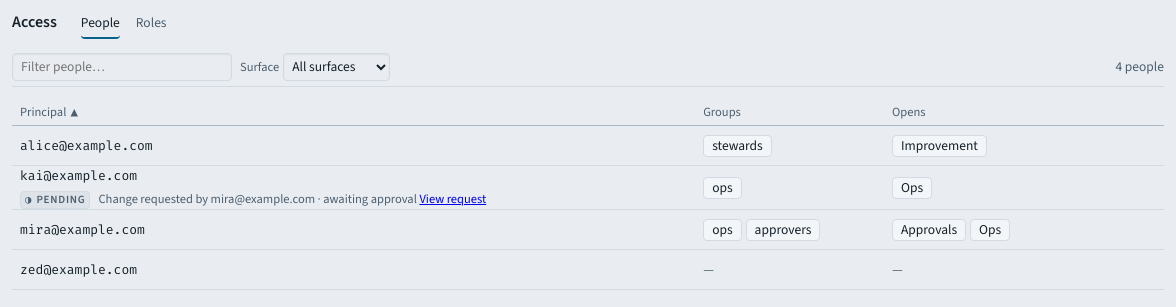
Test: §15 People — the table standard › the surface filter narrows the RENDERED ROWS, and the count follows them
Expected: the text "4 people" is shown, 1116,56 -> 1164,76
Select "Ops" in the dropdown labelled "Surface". click: (337, 66)
box: 283,52 -> 390,80
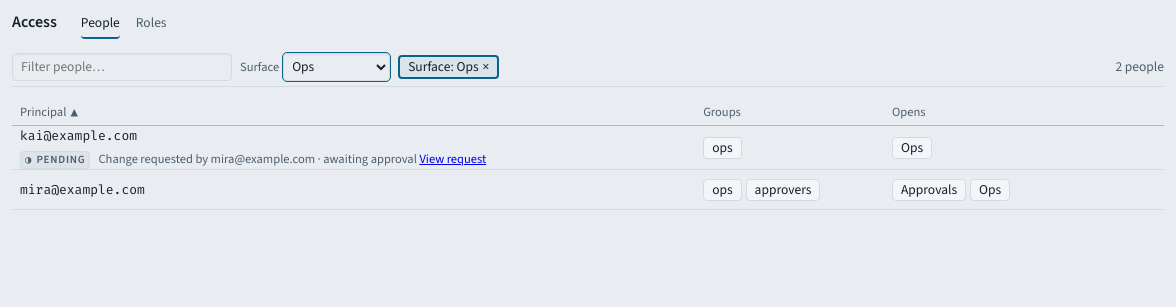
Expected: the text "2 people" is shown, 1116,56 -> 1164,76
Click the button named "Clear Surface: Ops". click: (486, 66)
box: 483,56 -> 489,76
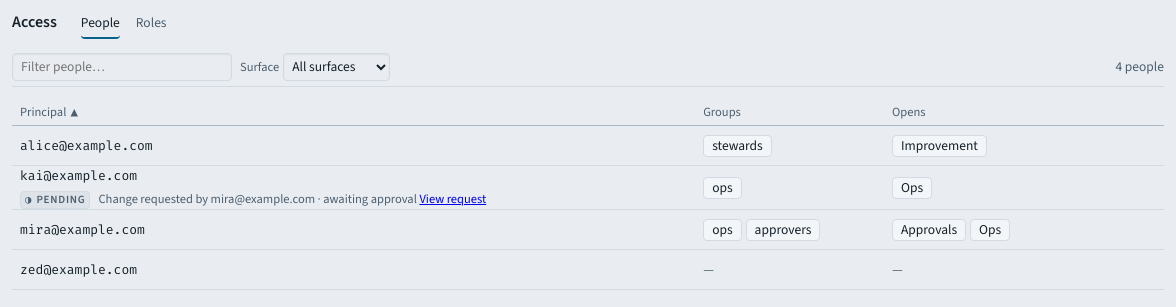
Expected: the text "4 people" is shown, 1116,56 -> 1164,76
